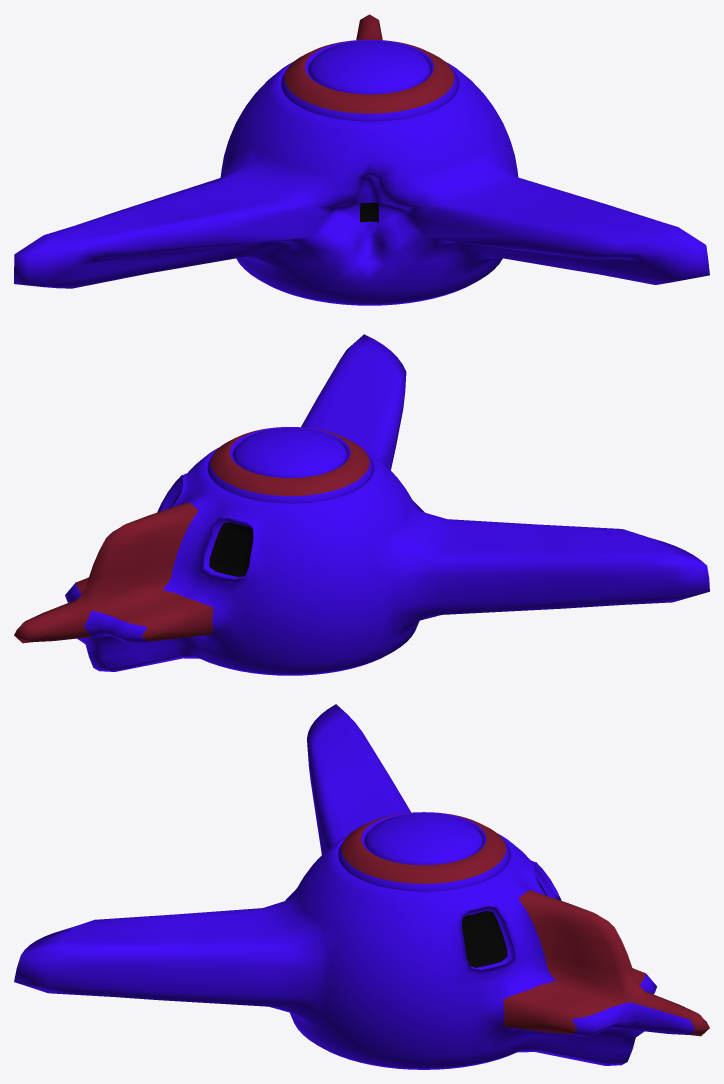
File: Enemy_1_Prefab.fbx
The picture shows the model from 3 angles, top to bottom: view 1: azimuth 30°, elevation 25°; view 2: azimuth 150°, elevation 25°; view 3: azimuth 270°, elevation 25°; orthographic projection. The views are drawn at different scales.
Visible parts, largest first — view 1: Sphere001; view 2: Sphere001; view 3: Sphere001.
Boxes of the visible parts, bbox=[...] form: Sphere001: bbox=[14, 14, 709, 305]; Sphere001: bbox=[14, 334, 709, 675]; Sphere001: bbox=[14, 704, 709, 1069].
Size of the model in its own units: 121 by 47.87 by 136.
